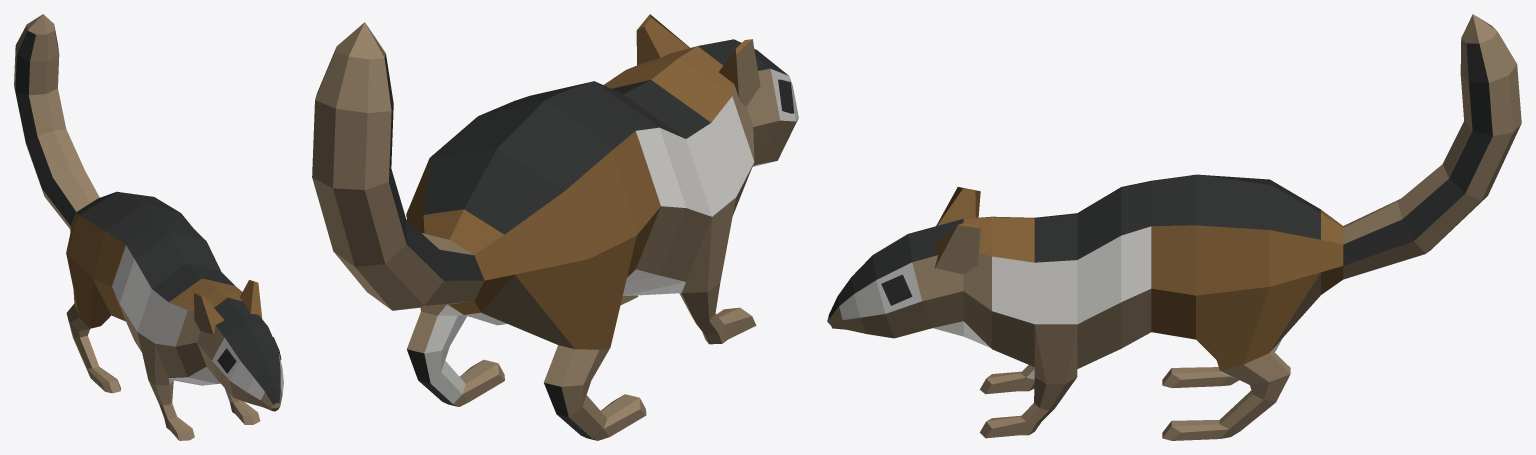
Rendered from Mesh_Chipmunk.obj.
The picture shows the model from 3 angles, left to right: view 1: azimuth 30°, elevation 25°; view 2: azimuth 150°, elevation 25°; view 3: azimuth 270°, elevation 25°; orthographic projection. The views are drawn at different scales.
Parts seen in each view (by area): view 1: Geo_Chipmunk; view 2: Geo_Chipmunk; view 3: Geo_Chipmunk.
Part boxes in pixels (bbox=[...]): Geo_Chipmunk: bbox=[14, 14, 283, 440]; Geo_Chipmunk: bbox=[312, 14, 798, 440]; Geo_Chipmunk: bbox=[827, 14, 1521, 440].
Size of the model in its own units: 17.15 by 46.19 by 73.23.
Materials: 1 (1 with a texture image).
